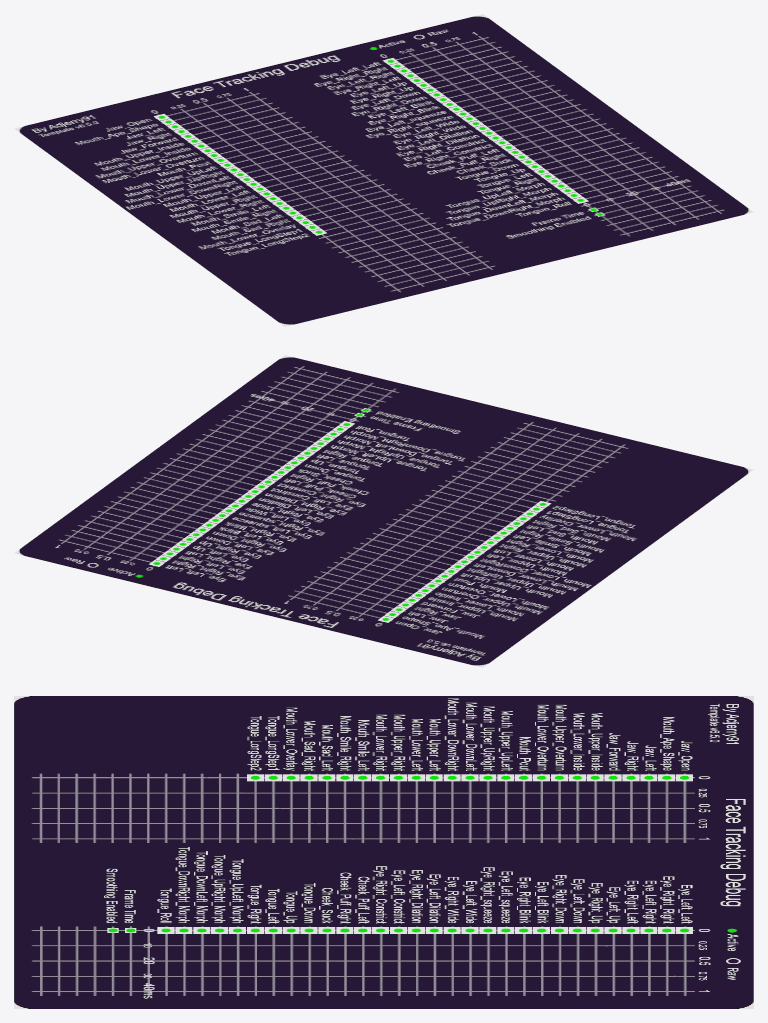
Rendered from FT_SRanipal_Debug.fbx.
3 views of the same model, one above another, from view 1: azimuth 30°, elevation 25°; view 2: azimuth 150°, elevation 25°; view 3: azimuth 270°, elevation 25° (orthographic). The views are drawn at different scales.
Parts seen in each view (by area): view 1: Debug; view 2: Debug; view 3: Debug.
Part boxes in pixels (x1=…): Debug: x1=14, y1=14, x2=753, y2=326; Debug: x1=14, y1=355, x2=753, y2=667; Debug: x1=14, y1=696, x2=753, y2=1008.
Bounding box in the file's own units: 0.75 × 4.82e-07 × 0.75.
